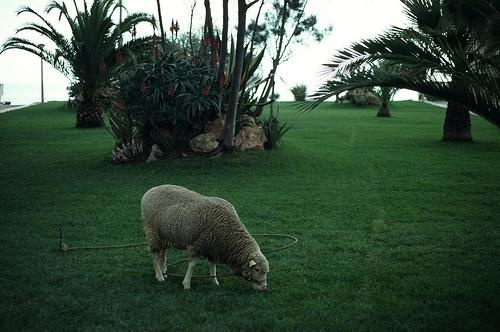sheep: (140, 184, 272, 292)
